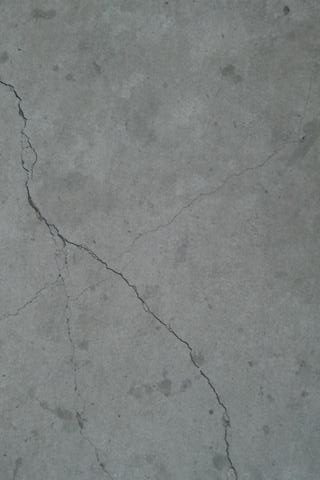A: (2, 78, 237, 480)
